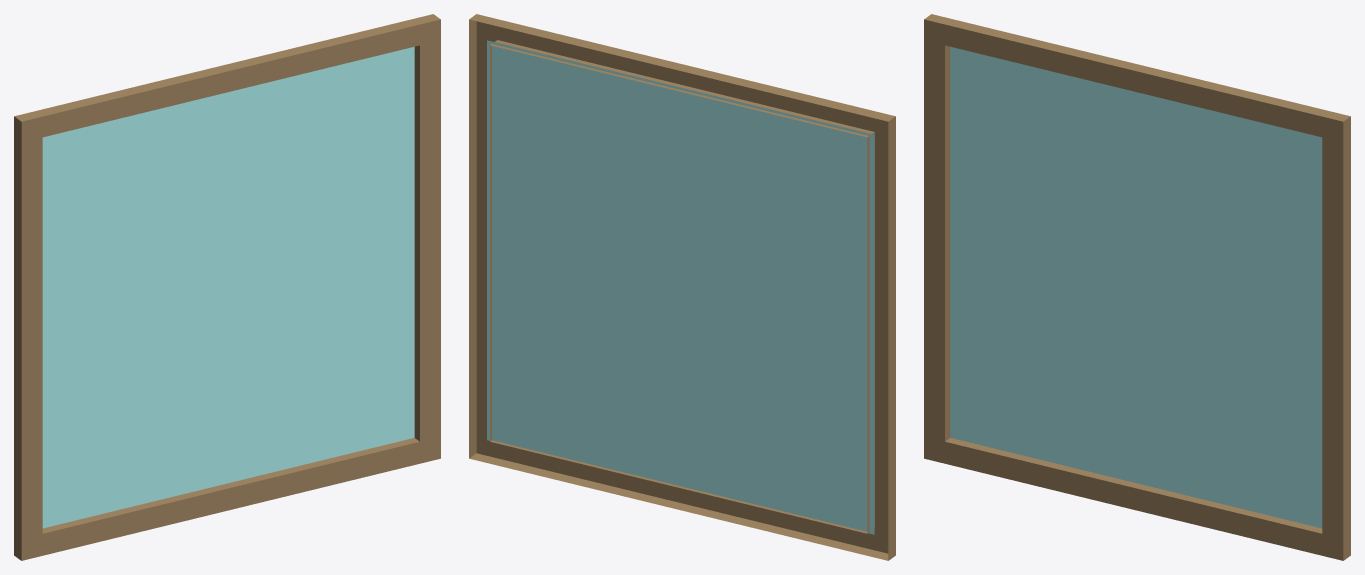
File: WINDOW_SQUARE_A.fbx
The picture shows the model from 3 angles, left to right: view 1: azimuth 30°, elevation 25°; view 2: azimuth 150°, elevation 25°; view 3: azimuth 330°, elevation 25°; orthographic projection.
Parts seen in each view (by area): view 1: WINDOW_SQUARE_A; view 2: WINDOW_SQUARE_A; view 3: WINDOW_SQUARE_A.
Boxes of the visible parts, <box> form: WINDOW_SQUARE_A: <box>14,14,440,560</box>; WINDOW_SQUARE_A: <box>469,14,895,560</box>; WINDOW_SQUARE_A: <box>924,14,1350,560</box>.
Bounding box in the file's own units: 149 × 149 × 4.57.
